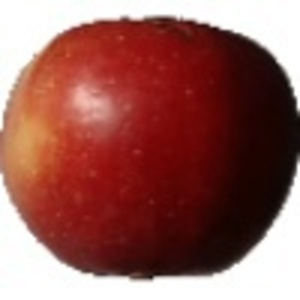maçã braeburn: (1, 10, 298, 284)
